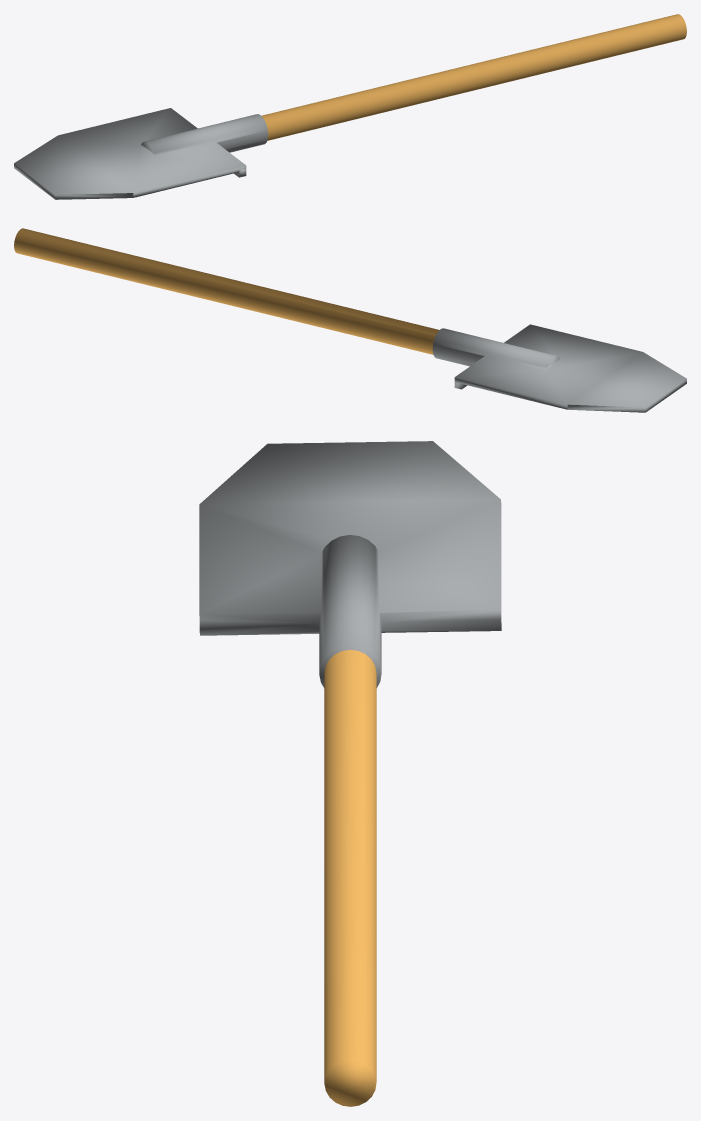
The model's file is Shovel.fbx.
The picture shows the model from 3 angles, top to bottom: view 1: azimuth 30°, elevation 25°; view 2: azimuth 150°, elevation 25°; view 3: azimuth 270°, elevation 25°; orthographic projection. The views are drawn at different scales.
Parts seen in each view (by area): view 1: obj_0.007; view 2: obj_0.007; view 3: obj_0.007.
Part boxes in pixels (left/top/right/bottom): obj_0.007: left=14, top=14, right=686, bottom=199; obj_0.007: left=14, top=228, right=686, bottom=412; obj_0.007: left=199, top=441, right=501, bottom=1106.
Bounding box in the file's own units: 2860 × 120 × 579.
